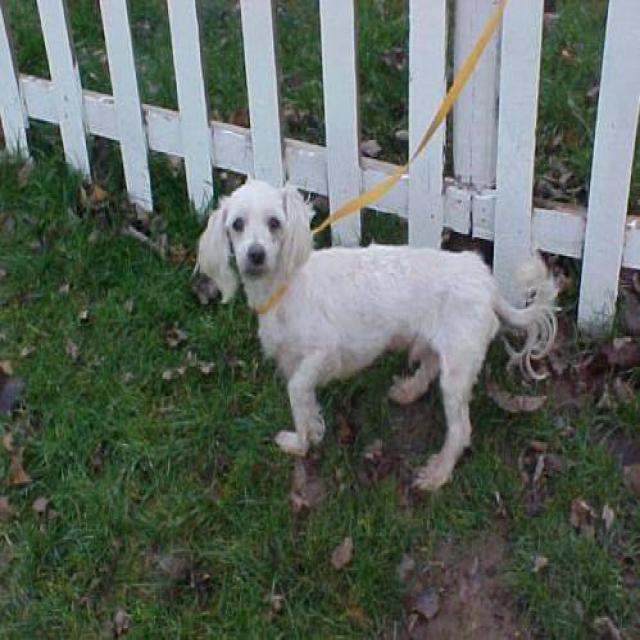dog: (192, 176, 560, 497)
